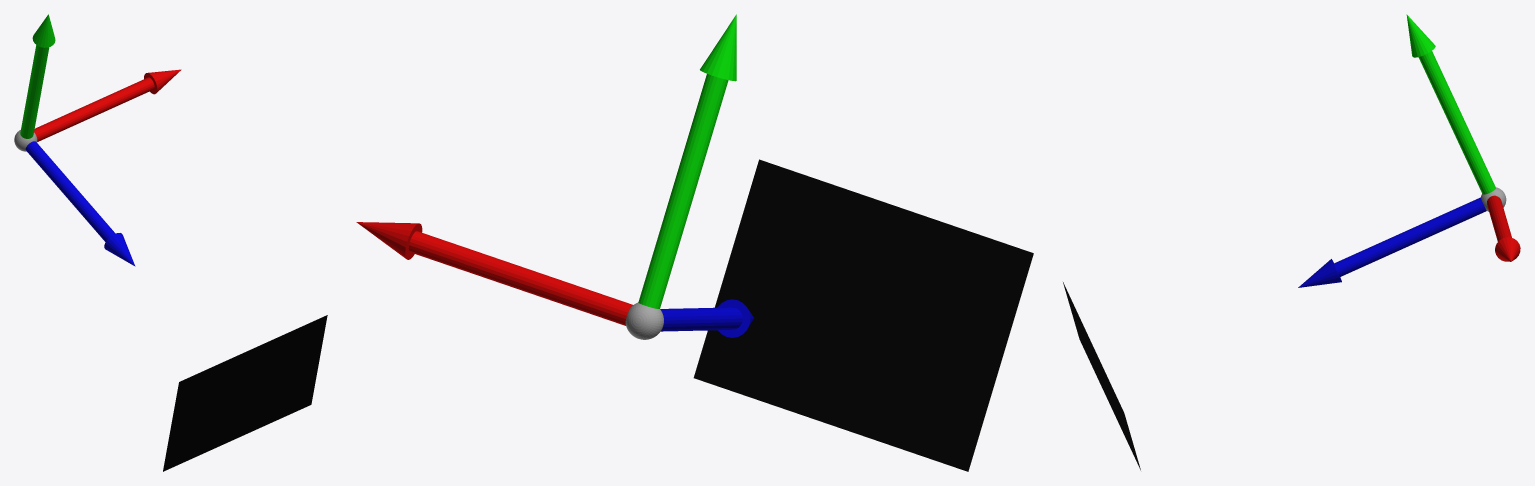
3 renders of one model, left to right at view 1: azimuth 30°, elevation 25°; view 2: azimuth 150°, elevation 25°; view 3: azimuth 270°, elevation 25°, orthographic. The views are drawn at different scales.
Bounding box in the file's own units: 0.153 × 0.2603 × 0.2665.
